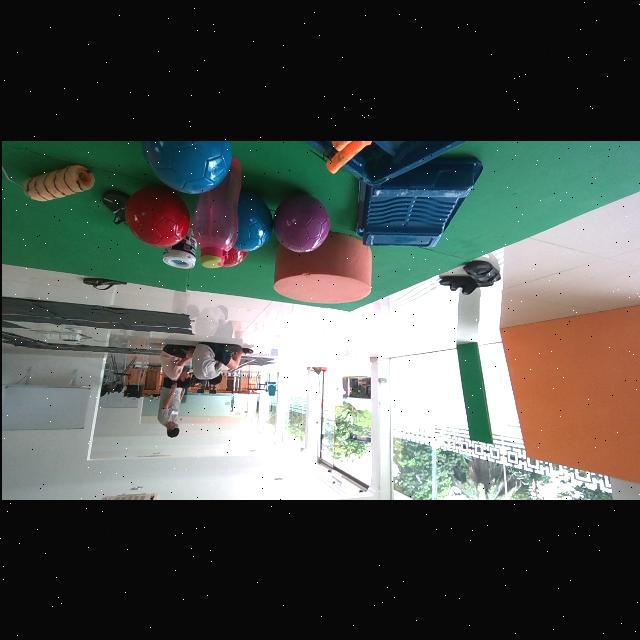B: (140, 140, 230, 194), (232, 191, 271, 251)
P: (272, 194, 328, 253)
R: (123, 186, 189, 248)
